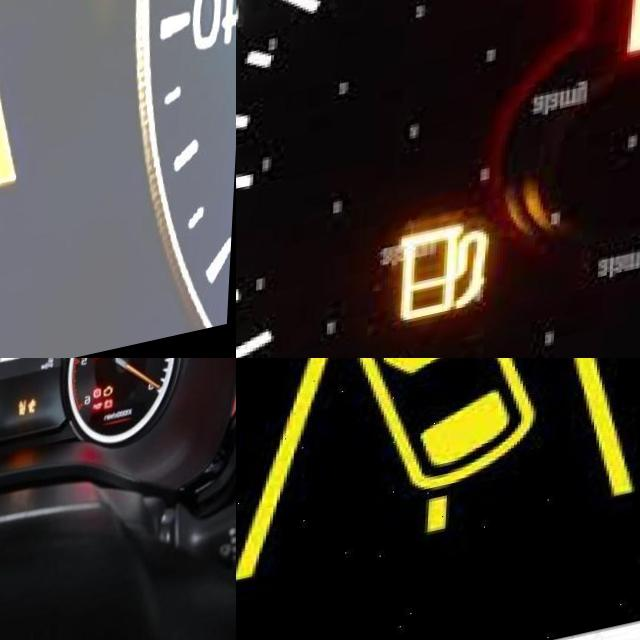Seat Belt: (97, 362, 105, 375)
